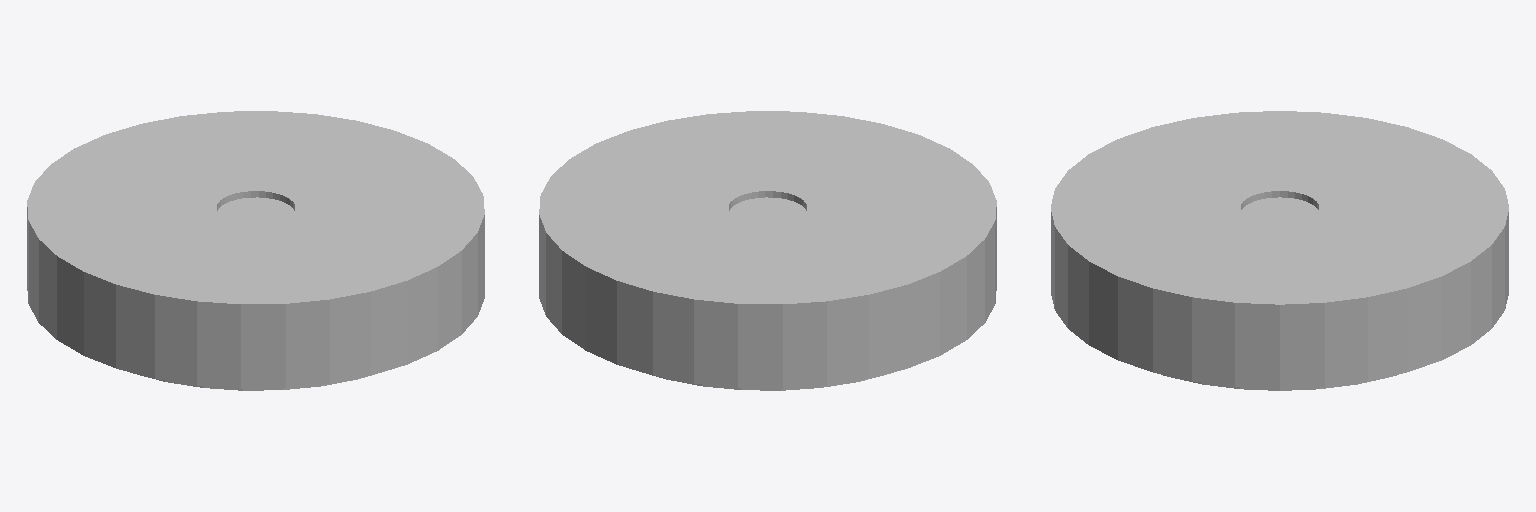
File: roomba.obj
The picture shows the model from 3 angles: view 1: azimuth 30°, elevation 25°; view 2: azimuth 150°, elevation 25°; view 3: azimuth 270°, elevation 25°; orthographic projection.
Parts seen in each view (by area): view 1: Cylinder; view 2: Cylinder; view 3: Cylinder.
Boxes of the visible parts, <box> form: Cylinder: <box>27,111,484,390</box>; Cylinder: <box>539,111,996,390</box>; Cylinder: <box>1051,111,1508,390</box>.
Size of the model in its own units: 2 by 0.4642 by 2.